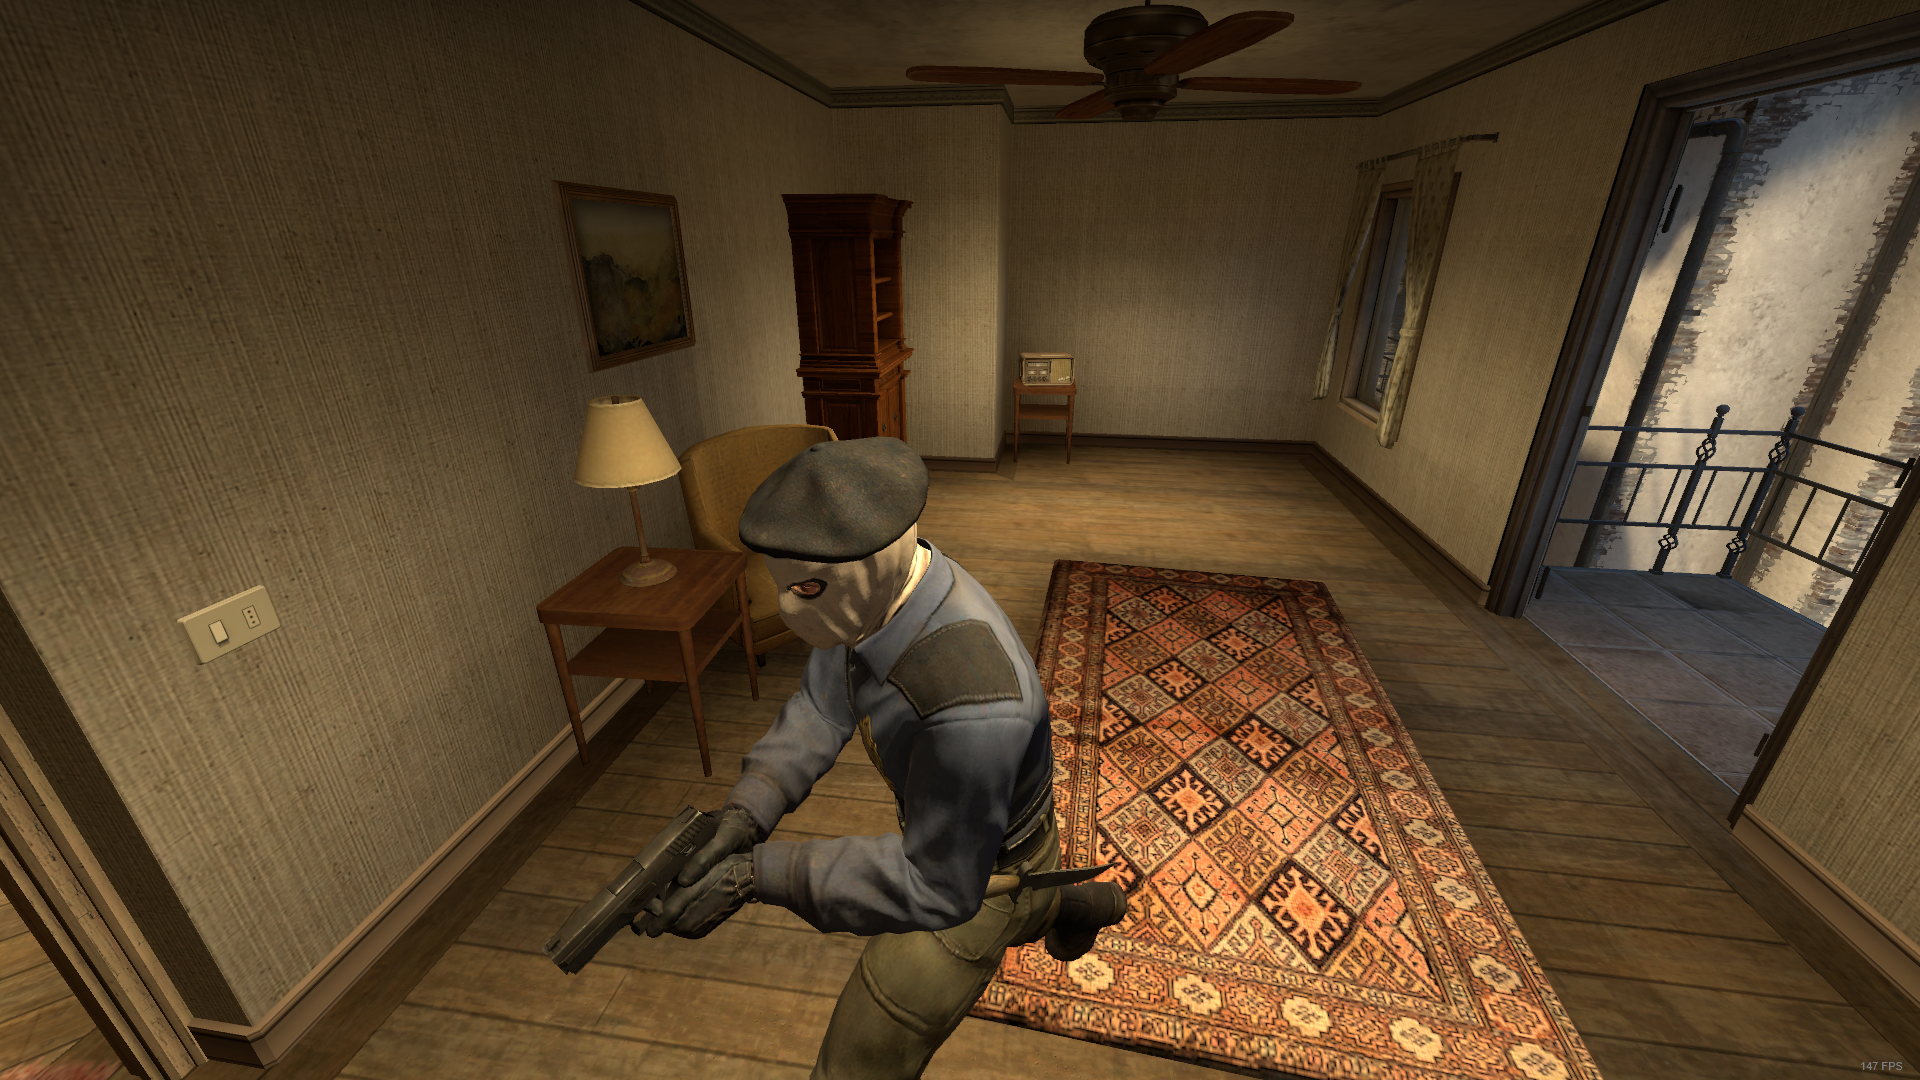t: (617, 429, 1142, 1080)
